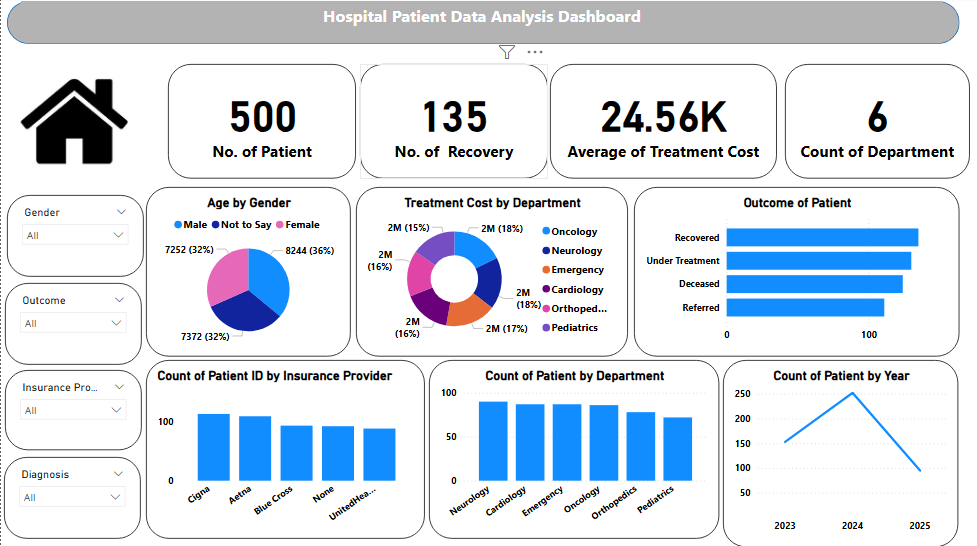

The dashboard page shown, as its layout file describes it:
{"tool":"powerbi","page":{"name":"Page 1","canvas":[1280,720],"ordinal":0},"visuals":[{"type":"pieChart","title":"Age by Gender","fields":{"Category":["Sheet1.Gender"],"Y":["Sum(Sheet1.Age)"]},"box":[190.1,249.1,267.8,221.8],"z":0},{"type":"columnChart","title":"Count of Patient by Department","fields":{"Category":["Sheet1.Department"],"Y":["CountNonNull(Sheet1.Patient ID)"]},"box":[560.2,474.8,379.9,234],"z":1000},{"type":"lineChart","title":"Count of Patient by Year","fields":{"Category":["Sheet1.Admission Date.Variation.Date Hierarchy.Year"],"Y":["CountNonNull(Sheet1.Patient ID)"]},"box":[945.5,474.8,308.3,245],"z":2000},{"type":"donutChart","title":"Treatment Cost by Department","fields":{"Category":["Sheet1.Department"],"Y":["Sum(Sheet1.Treatment Cost (USD))"]},"box":[465.1,249.1,355.7,221.8],"z":3000},{"type":"clusteredBarChart","title":"Outcome of Patient","fields":{"Category":["Sheet1.Outcome"],"Y":["CountNonNull(Sheet1.Patient ID)"]},"box":[828,249.1,426.2,221.8],"z":4000},{"type":"columnChart","fields":{"Category":["Sheet1.Insurance Provider"],"Y":["CountNonNull(Sheet1.Patient ID)"]},"box":[189.9,474.8,364.7,234],"z":5000},{"type":"card","fields":{"Values":["CountNonNull(Sheet1.Patient ID)"]},"box":[218.9,87.8,246.2,149.8],"z":6000},{"type":"card","fields":{"Values":["Avg(Sheet1.Treatment Cost (USD))"]},"box":[718.6,87.8,296.6,149.8],"z":7000},{"type":"card","fields":{"Values":["CountNonNull(Sheet1.Outcome)"]},"box":[469.4,87.8,246.2,149.8],"z":8000},{"type":"slicer","fields":{"Values":["Sheet1.Insurance Provider"]},"box":[5.8,488.2,178.6,105.1],"z":9000},{"type":"slicer","fields":{"Values":["Sheet1.Diagnosis"]},"box":[4.3,601.9,178.6,106.6],"z":10000},{"type":"slicer","fields":{"Values":["Sheet1.Outcome"]},"box":[5.8,374.4,178.6,106.6],"z":11000},{"type":"slicer","fields":{"Values":["Sheet1.Gender"]},"box":[7.2,259.2,178.6,106.6],"z":12000},{"type":"card","fields":{"Values":["Count(Sheet1.Department)"]},"box":[1026.7,87.8,241.9,149.8],"z":13000},{"type":"image","box":[7.2,87.8,175.7,149.8],"z":14000},{"type":"shape","box":[7.2,5.8,1247,56.2],"z":15000},{"type":"textbox","box":[25.9,5.8,1206.7,46.1],"z":16000}]}

Visuals, with their boxes in screenshot pixels (x1, y1, x2, y2), scaled from the page's 1280x720 canvas onto the 977x546 screenshot:
"Age by Gender" pieChart: Rect(145, 189, 350, 357)
"Count of Patient by Department" columnChart: Rect(428, 360, 718, 538)
"Count of Patient by Year" lineChart: Rect(722, 360, 957, 545)
"Treatment Cost by Department" donutChart: Rect(355, 189, 627, 357)
"Outcome of Patient" clusteredBarChart: Rect(632, 189, 957, 357)
columnChart - Sheet1.Insurance Provider x CountNonNull(Sheet1.Patient ID): Rect(145, 360, 423, 538)
card - CountNonNull(Sheet1.Patient ID): Rect(167, 67, 355, 180)
card - Avg(Sheet1.Treatment Cost (USD)): Rect(548, 67, 775, 180)
card - CountNonNull(Sheet1.Outcome): Rect(358, 67, 546, 180)
slicer - Sheet1.Insurance Provider: Rect(4, 370, 141, 450)
slicer - Sheet1.Diagnosis: Rect(3, 456, 140, 537)
slicer - Sheet1.Outcome: Rect(4, 284, 141, 365)
slicer - Sheet1.Gender: Rect(5, 197, 142, 277)
card - Count(Sheet1.Department): Rect(784, 67, 968, 180)
image: Rect(5, 67, 140, 180)
shape: Rect(5, 4, 957, 47)
textbox: Rect(20, 4, 941, 39)
